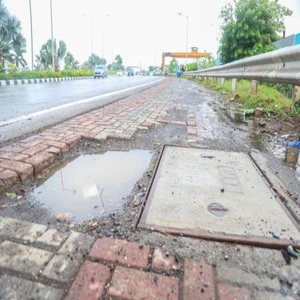pothole: (18, 140, 154, 233)
